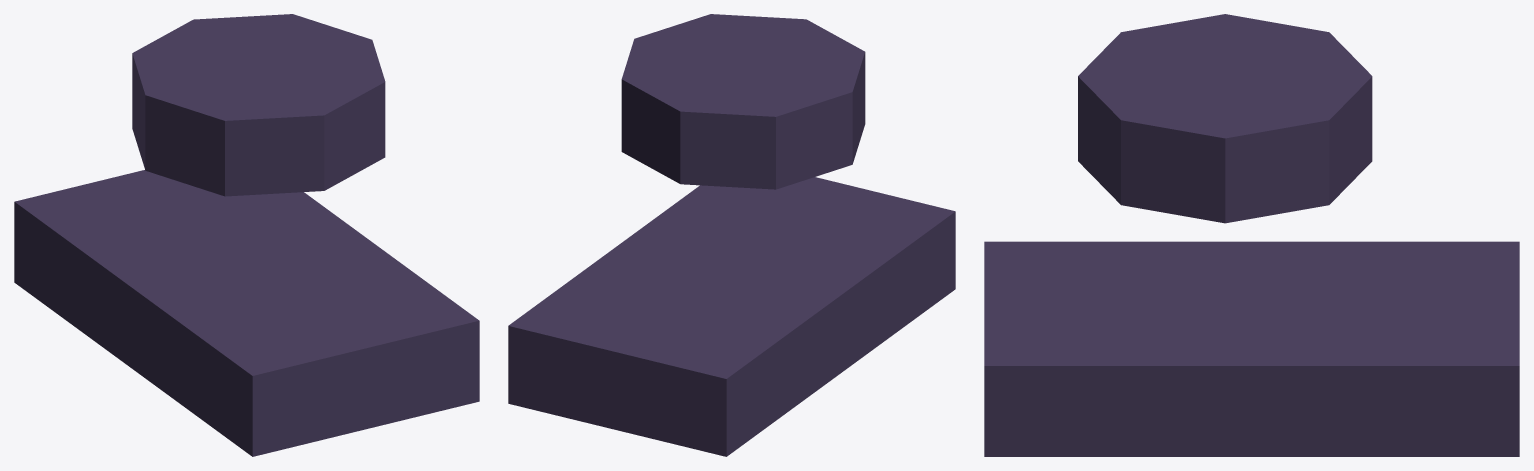
File: CH_TimelineTank.fbx
3 views of the same model, side by side, from view 1: azimuth 30°, elevation 25°; view 2: azimuth 150°, elevation 25°; view 3: azimuth 270°, elevation 25° (orthographic). The views are drawn at different scales.
Parts seen in each view (by area): view 1: Cube, Cylinder; view 2: Cube, Cylinder; view 3: Cube, Cylinder.
Boxes of the visible parts, x1,y1,x2,y2 form: Cube: (14,170,479,456); Cylinder: (132,14,385,196); Cube: (508,177,955,456); Cylinder: (621,14,865,189); Cube: (984,241,1519,456); Cylinder: (1078,14,1372,223).
Bounding box in the file's own units: 220 × 263 × 400.
